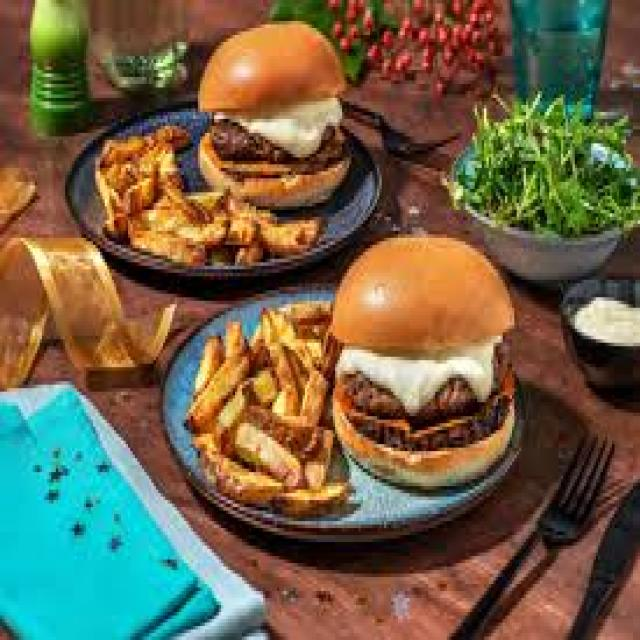Wet Waste: (352, 248, 509, 479), (206, 36, 358, 224)
